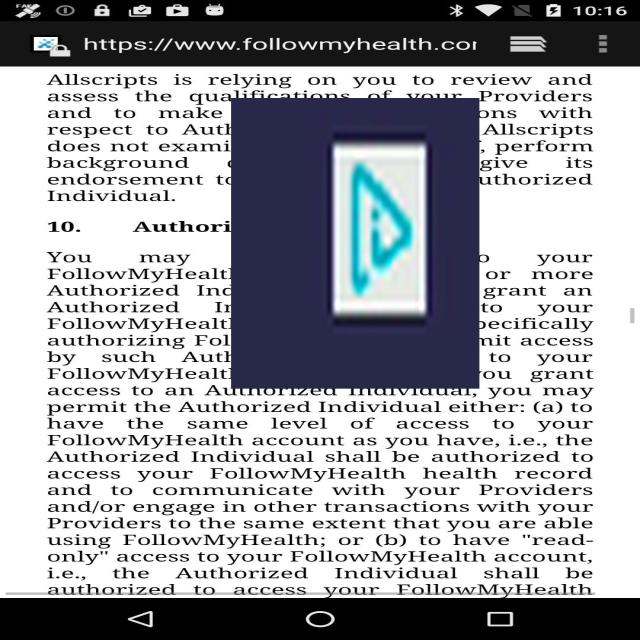sneaking: (231, 98, 480, 389)
